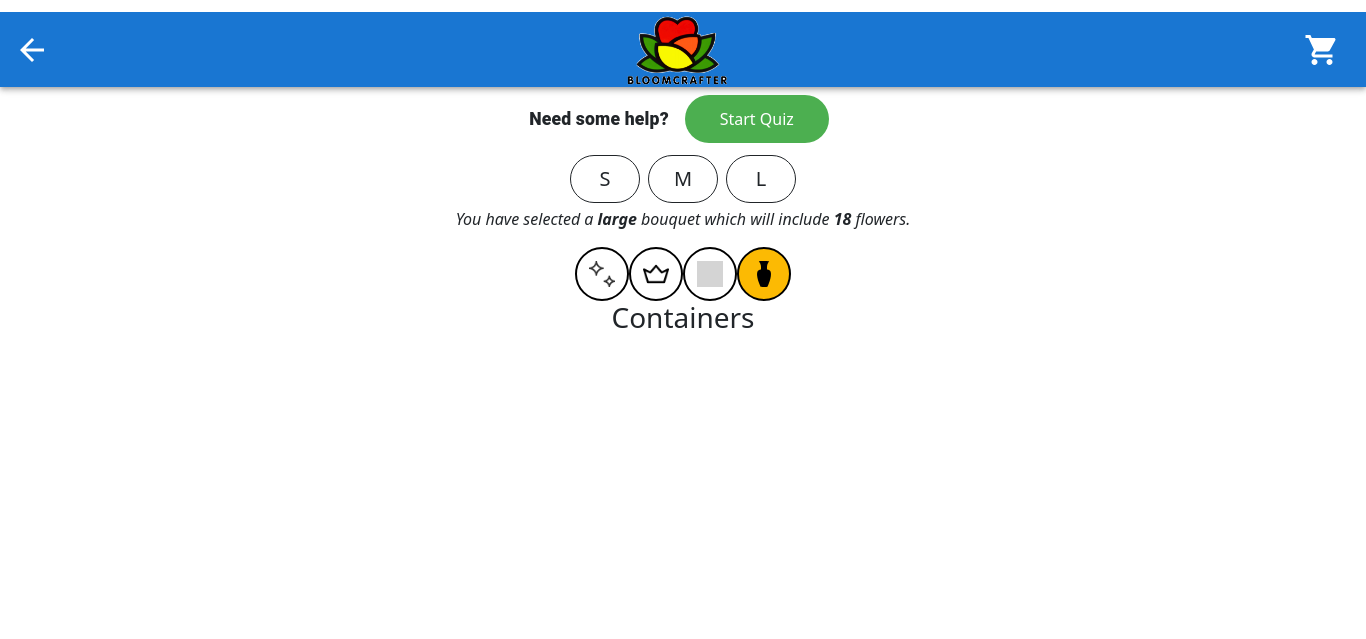
it: bouquetbuilder tests › selecting the 'focal' category shows focal flowers
Click the button with test id "Focal-button" at (656, 274), box [629,247,683,301]
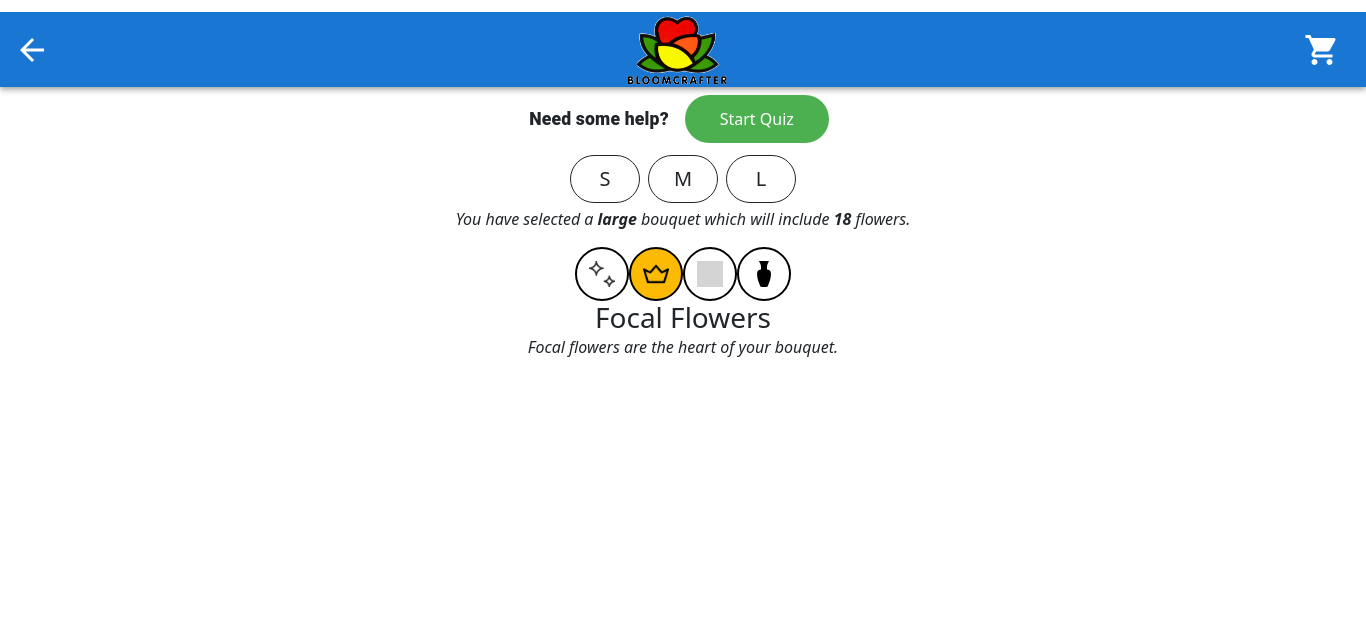
Check: the heading "Focal Flowers" is shown, box [595,298,771,336]
